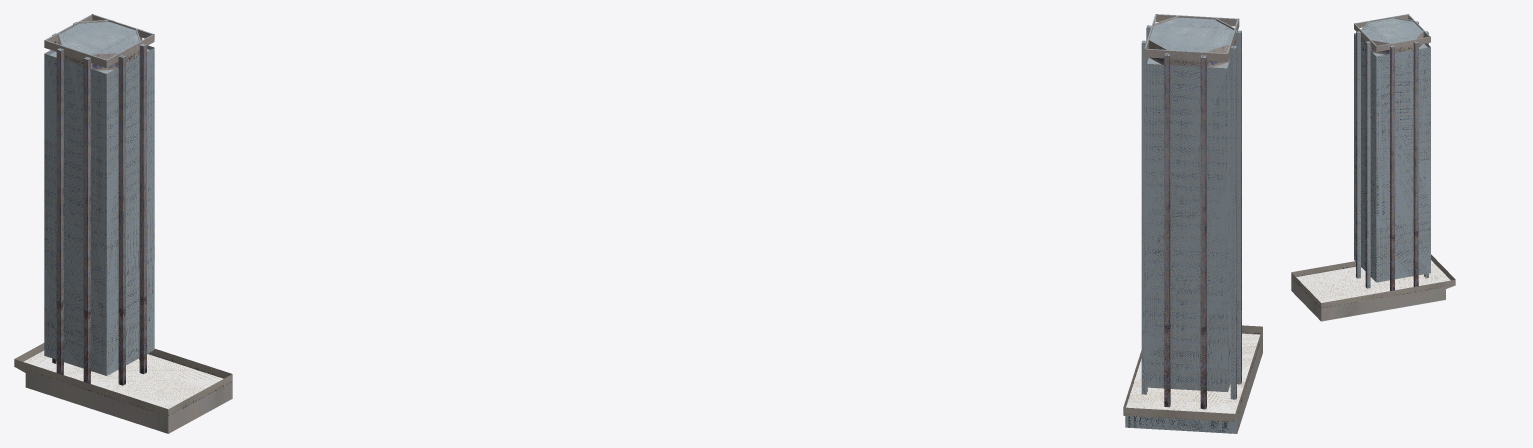
The model's file is EDIF_CIO_RIO_DE_JANEIRO6.fbx.
3 views of the same model, side by side, from view 1: azimuth 30°, elevation 25°; view 2: azimuth 150°, elevation 25°; view 3: azimuth 270°, elevation 25° (orthographic). The views are drawn at different scales.
Visible parts, largest first — view 1: Group4, Group2, Group19, Group18, Group8, Group9; view 2: Group4, Group2, Group16, Group15, Group9, Group8, Group12; view 3: Group4, Group2, Group19, Group12, Group18, Group11.
Boxes of the visible parts, <box> form: Group4: <box>44,14,154,375</box>; Group2: <box>14,343,232,433</box>; Group19: <box>139,43,146,374</box>; Group18: <box>118,55,125,385</box>; Group8: <box>83,57,90,383</box>; Group9: <box>56,48,63,374</box>; Group4: <box>1144,14,1239,392</box>; Group2: <box>1123,325,1262,433</box>; Group16: <box>1164,53,1170,407</box>; Group15: <box>1200,55,1206,409</box>; Group9: <box>1230,45,1236,399</box>; Group8: <box>1235,30,1241,384</box>; Group12: <box>1141,40,1147,394</box>; Group4: <box>1354,14,1430,282</box>; Group2: <box>1291,254,1455,321</box>; Group19: <box>1365,41,1370,288</box>; Group12: <box>1413,41,1418,286</box>; Group18: <box>1356,31,1360,278</box>; Group11: <box>1390,45,1394,290</box>.
Bounding box in the file's own units: 126 × 73.04 × 57.93.
